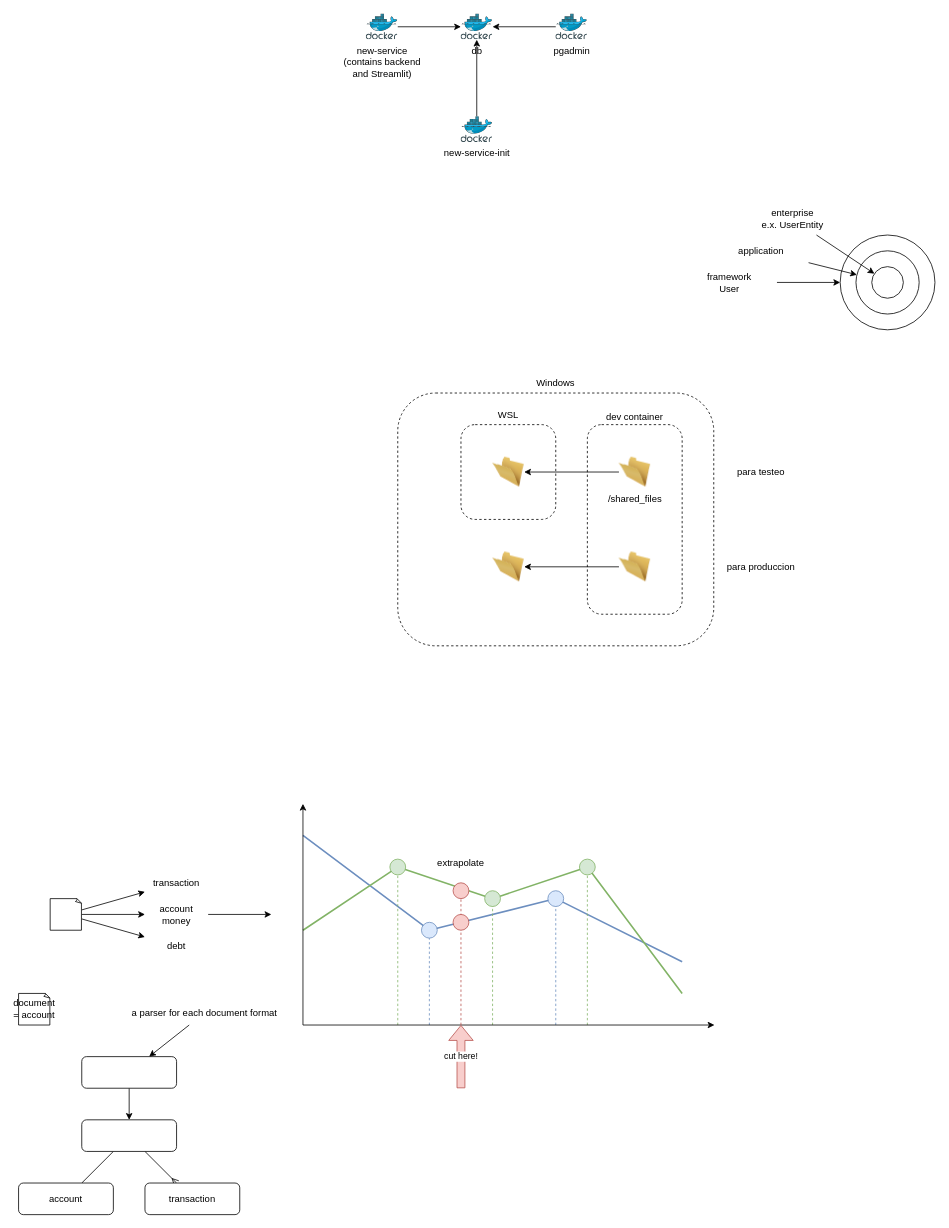
Image size: 949x1228. Some labels were removed from this diagram. The shapes that lost their labels are listed below. From the top down, each one's centre as x and y in pixels, then its label:
At (x=508, y=471): "./files".
At (x=508, y=566): "/mnt/c/Users/josue/Downloads".
At (x=634, y=566): "/downloads".
At (x=129, y=1072): "document format".
At (x=129, y=1135): "document".
